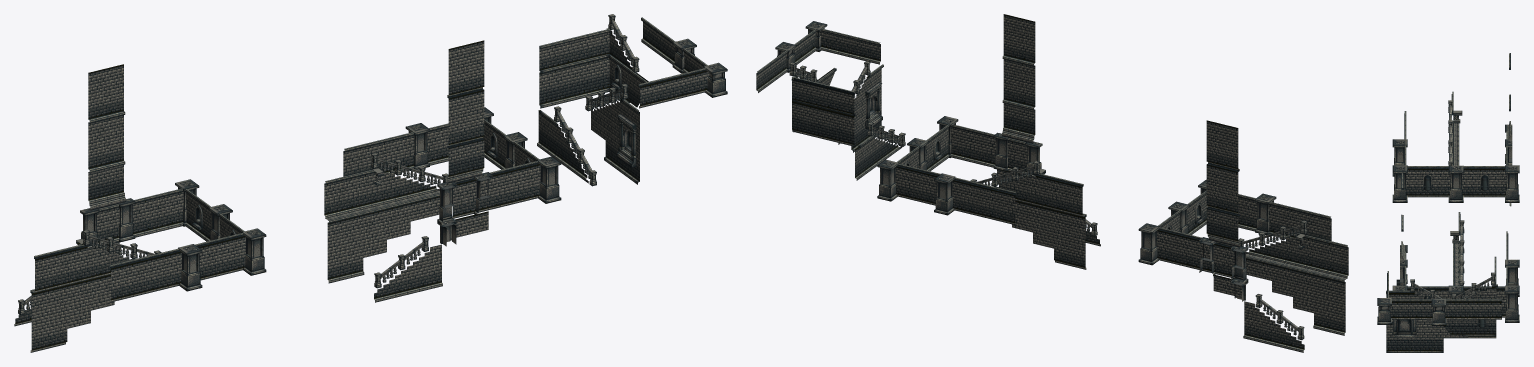
File: EnvMdrMD_Daiseidou_A_Wall_Staires_A.FBX
The picture shows the model from 3 angles, left to right: view 1: azimuth 30°, elevation 25°; view 2: azimuth 150°, elevation 25°; view 3: azimuth 270°, elevation 25°; orthographic projection. The views are drawn at different scales.
Parts seen in each view (by area): view 1: EnvMdrMD_Daiseidou_A_Wall_Staires_B_L, EnvMdrMD_Daiseidou_A_Wall_Staires_B_R, EnvMdrMD_Daiseidou_A_Wall_Staires_A; view 2: EnvMdrMD_Daiseidou_A_Wall_Staires_B_R, EnvMdrMD_Daiseidou_A_Wall_Staires_B_L, EnvMdrMD_Daiseidou_A_Wall_Staires_A; view 3: EnvMdrMD_Daiseidou_A_Wall_Staires_A, EnvMdrMD_Daiseidou_A_Wall_Staires_B_R, EnvMdrMD_Daiseidou_A_Wall_Staires_B_L.
Part boxes in pixels (bbox=[...]): EnvMdrMD_Daiseidou_A_Wall_Staires_B_L: bbox=[324, 40, 561, 302]; EnvMdrMD_Daiseidou_A_Wall_Staires_B_R: bbox=[14, 64, 266, 352]; EnvMdrMD_Daiseidou_A_Wall_Staires_A: bbox=[537, 14, 727, 186]; EnvMdrMD_Daiseidou_A_Wall_Staires_B_R: bbox=[1138, 120, 1348, 352]; EnvMdrMD_Daiseidou_A_Wall_Staires_B_L: bbox=[877, 14, 1100, 269]; EnvMdrMD_Daiseidou_A_Wall_Staires_A: bbox=[756, 21, 905, 180]; EnvMdrMD_Daiseidou_A_Wall_Staires_A: bbox=[1377, 256, 1501, 352]; EnvMdrMD_Daiseidou_A_Wall_Staires_B_R: bbox=[1392, 53, 1519, 206]; EnvMdrMD_Daiseidou_A_Wall_Staires_B_L: bbox=[1392, 173, 1519, 322].
Size of the model in its own units: 5484 by 1900 by 1245.
1 material, 1 textured.
